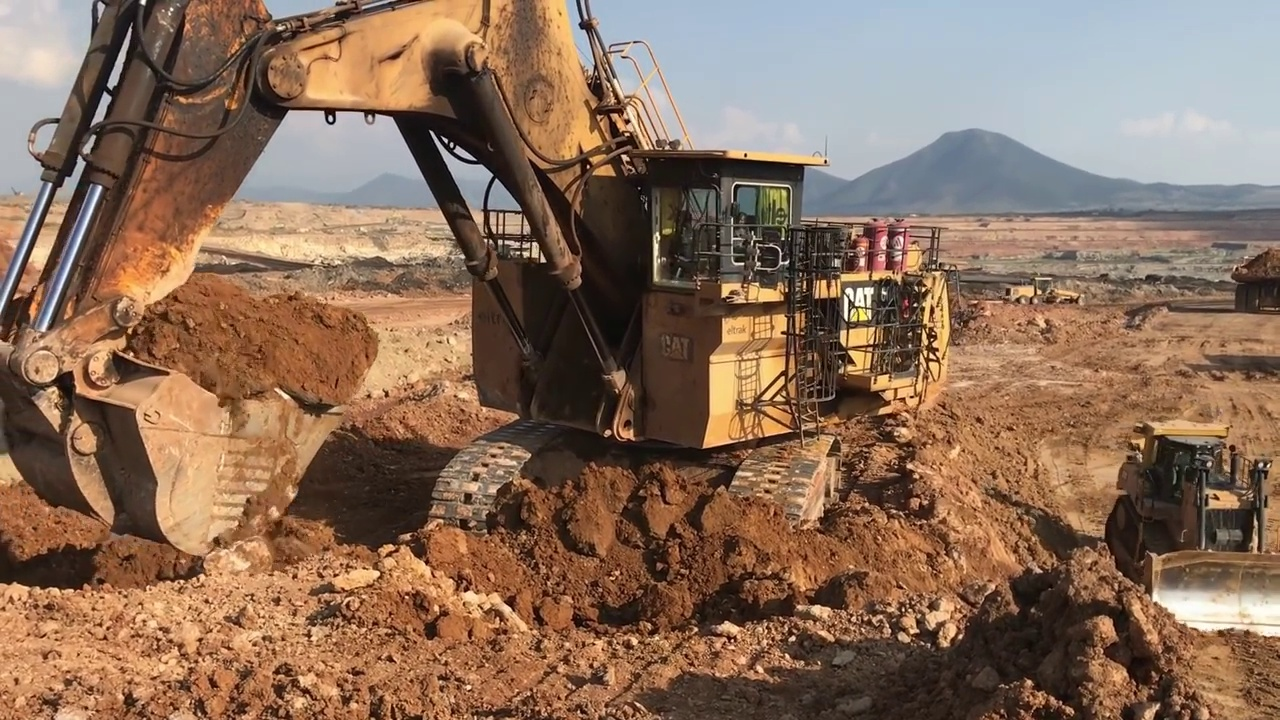bulldozer: (1104, 422, 1280, 642)
dumper: (1230, 239, 1280, 308)
excavator: (4, 2, 950, 547)
